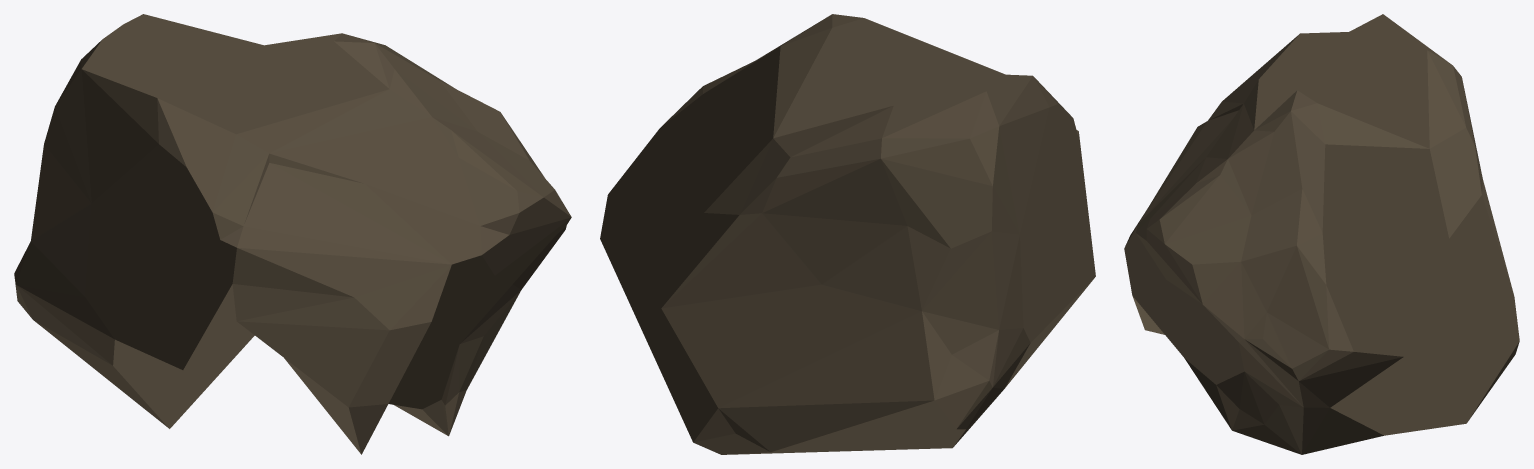
File: BigRock.fbx
The picture shows the model from 3 angles, left to right: view 1: azimuth 30°, elevation 25°; view 2: azimuth 150°, elevation 25°; view 3: azimuth 270°, elevation 25°; orthographic projection. The views are drawn at different scales.
Parts seen in each view (by area): view 1: Stone1; view 2: Stone1; view 3: Stone1.
Part boxes in pixels (x1=…): Stone1: x1=14, y1=14, x2=571, y2=454; Stone1: x1=600, y1=14, x2=1095, y2=454; Stone1: x1=1124, y1=14, x2=1519, y2=454.
Size of the model in its own units: 544 by 444 by 503.
